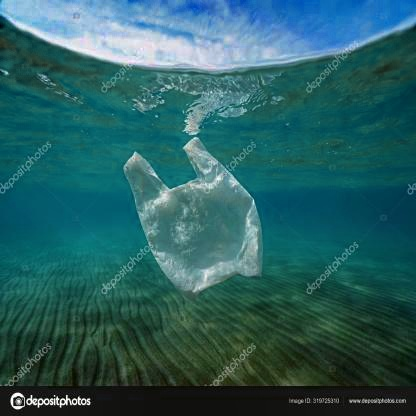pbag: (123, 136, 265, 299)
